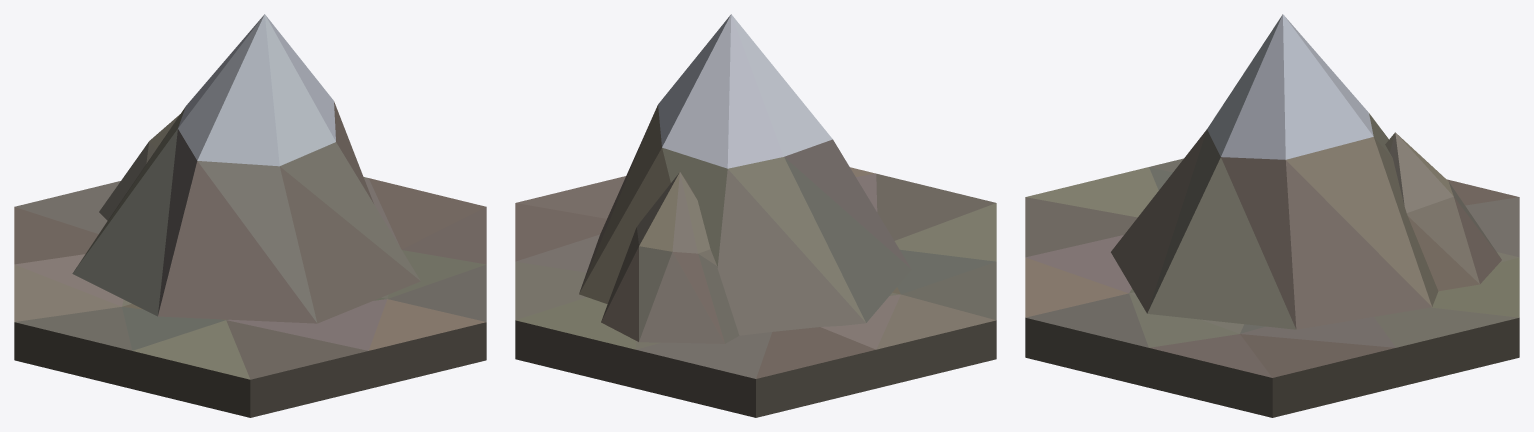
Rendered from Mountain-Far.glb.
3 views of the same model, side by side, from view 1: azimuth 30°, elevation 25°; view 2: azimuth 150°, elevation 25°; view 3: azimuth 270°, elevation 25° (orthographic). The views are drawn at different scales.
Visible parts, largest first — view 1: Mountain-Far; view 2: Mountain-Far; view 3: Mountain-Far.
Boxes of the visible parts, x1,y1,x2,y2 form: Mountain-Far: [14, 14, 486, 417]; Mountain-Far: [515, 14, 996, 417]; Mountain-Far: [1025, 14, 1519, 417].
Size of the model in its own units: 1.94 by 1.1 by 1.68.
